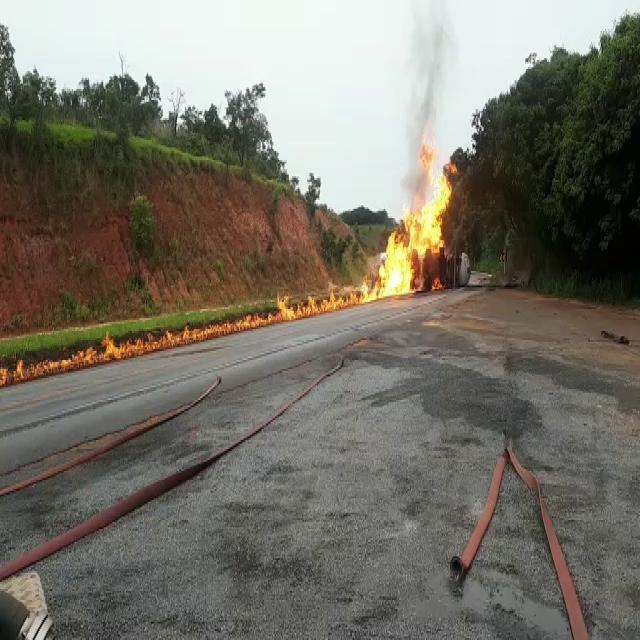Fire: (2, 291, 357, 382), (365, 147, 457, 304), (99, 327, 117, 362), (14, 351, 26, 380), (82, 347, 95, 369), (306, 296, 318, 314), (183, 328, 191, 346), (283, 302, 292, 318), (165, 323, 172, 340), (310, 296, 316, 314), (52, 356, 58, 371), (323, 295, 328, 308), (298, 299, 302, 312), (266, 310, 271, 319), (248, 309, 254, 316), (206, 322, 207, 333)
Smoke: (394, 7, 457, 229), (403, 11, 460, 144)
